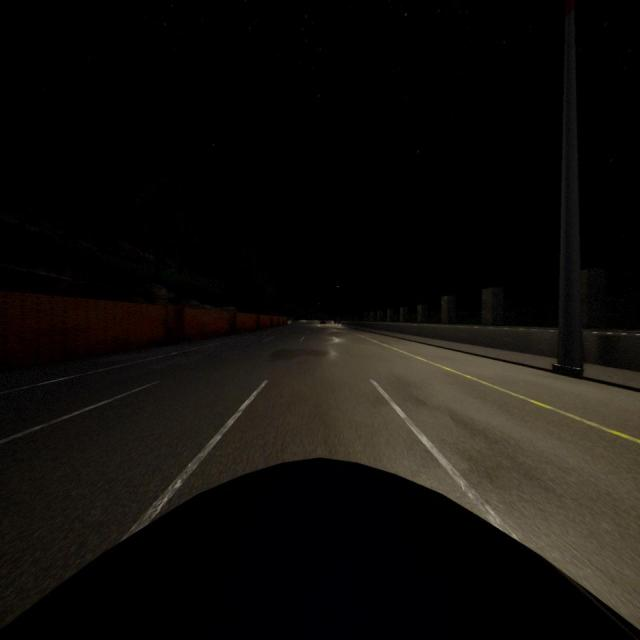Vehicle: (1, 454, 640, 638)
